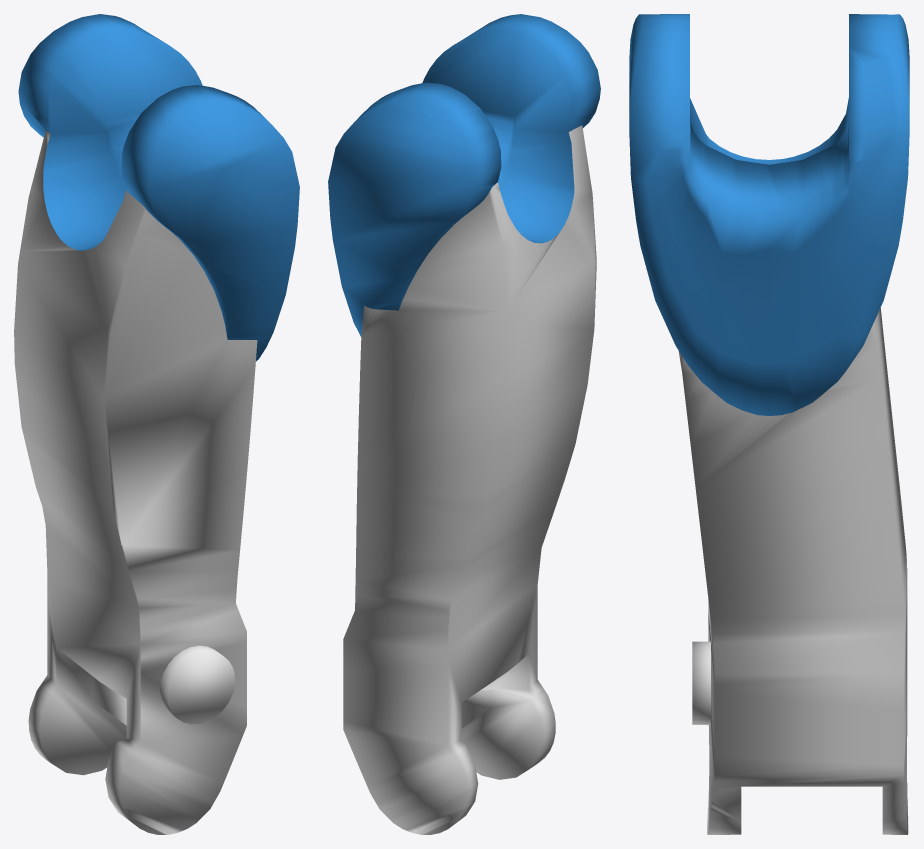
File: R_HIP_P.dae
3 views of the same model, side by side, from view 1: azimuth 30°, elevation 25°; view 2: azimuth 150°, elevation 25°; view 3: azimuth 270°, elevation 25° (orthographic). The views are drawn at different scales.
Visible parts, largest first — view 1: ShapeIndexedFaceS_099, ShapeIndexedFaceS_106, ShapeIndexedFaceS_107; view 2: ShapeIndexedFaceS_099, ShapeIndexedFaceS_106; view 3: ShapeIndexedFaceS_099, ShapeIndexedFaceS_106, ShapeIndexedFaceS_107.
Boxes of the visible parts, x1,y1,x2,y2 form: ShapeIndexedFaceS_099: (14,131,257,834); ShapeIndexedFaceS_106: (18,14,299,361); ShapeIndexedFaceS_107: (159,645,234,724); ShapeIndexedFaceS_099: (343,125,596,834); ShapeIndexedFaceS_106: (328,14,600,336); ShapeIndexedFaceS_099: (678,308,908,834); ShapeIndexedFaceS_106: (629,14,909,415); ShapeIndexedFaceS_107: (692,641,710,724).
Bounding box in the file's own units: 0.1097 × 0.134 × 0.4259.
